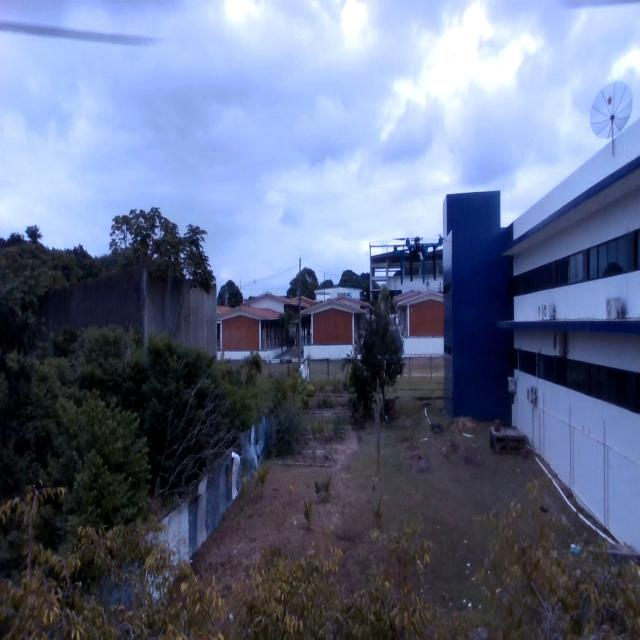-uav-: (384, 227, 454, 299)
